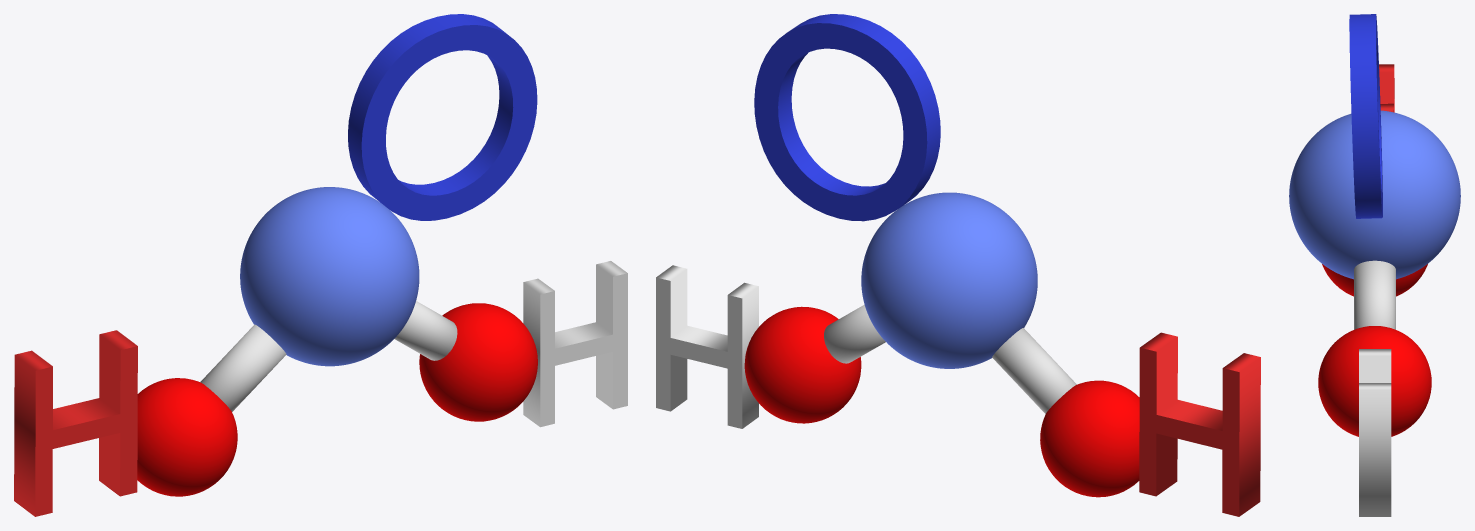
3 renders of one model, left to right at view 1: azimuth 30°, elevation 25°; view 2: azimuth 150°, elevation 25°; view 3: azimuth 270°, elevation 25°, orthographic. The views are drawn at different scales.
Visible parts, largest first — view 1: Object_2, Object_4, Text.004, Text.002, Text, Object_3; view 2: Object_2, Object_4, Text.004, Text.002, Text, Object_3; view 3: Object_2, Object_4, Text.004, Text, Object_3, Text.002.
Boxes of the visible parts, x1=… form: Object_2: x1=240, y1=187, x2=419, y2=366; Object_4: x1=137, y1=303, x2=537, y2=496; Text.004: x1=348, y1=14, x2=537, y2=220; Text.002: x1=14, y1=330, x2=137, y2=516; Text: x1=523, y1=261, x2=627, y2=427; Object_3: x1=200, y1=301, x2=457, y2=411; Object_2: x1=861, y1=192, x2=1037, y2=368; Object_4: x1=744, y1=306, x2=1139, y2=497; Text.004: x1=754, y1=14, x2=940, y2=221; Text.002: x1=1139, y1=332, x2=1260, y2=516; Text: x1=656, y1=265, x2=758, y2=428; Object_3: x1=824, y1=304, x2=1076, y2=413; Object_2: x1=1289, y1=110, x2=1460, y2=279; Object_4: x1=1318, y1=264, x2=1431, y2=436; Text.004: x1=1349, y1=14, x2=1382, y2=218; Text: x1=1359, y1=349, x2=1391, y2=516; Object_3: x1=1354, y1=260, x2=1395, y2=329; Text.002: x1=1379, y1=64, x2=1394, y2=112.
Size of the model in its own units: 1.22 by 0.8338 by 0.3175.
